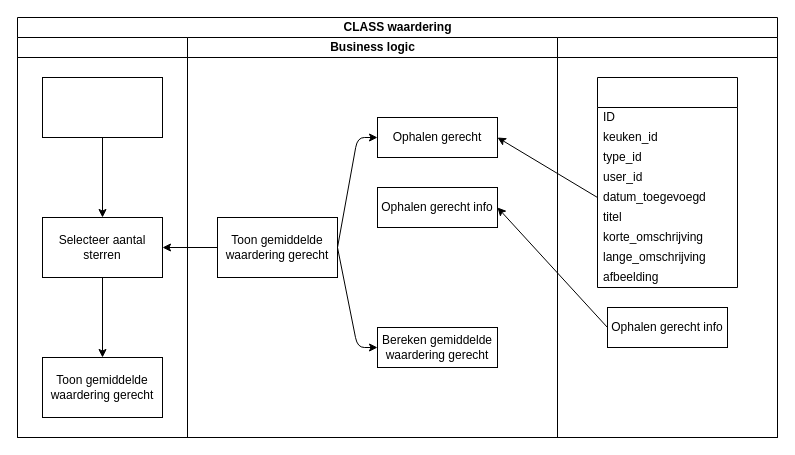
Some shapes in this 795 by 455 pixel diagram are drawn without their labels. Each missing label, with the box of its shape:
Controller: (16, 36, 188, 438)
Gerecht: (596, 76, 738, 288)
Initialisatie: (42, 76, 162, 138)
Model: (556, 36, 778, 438)
